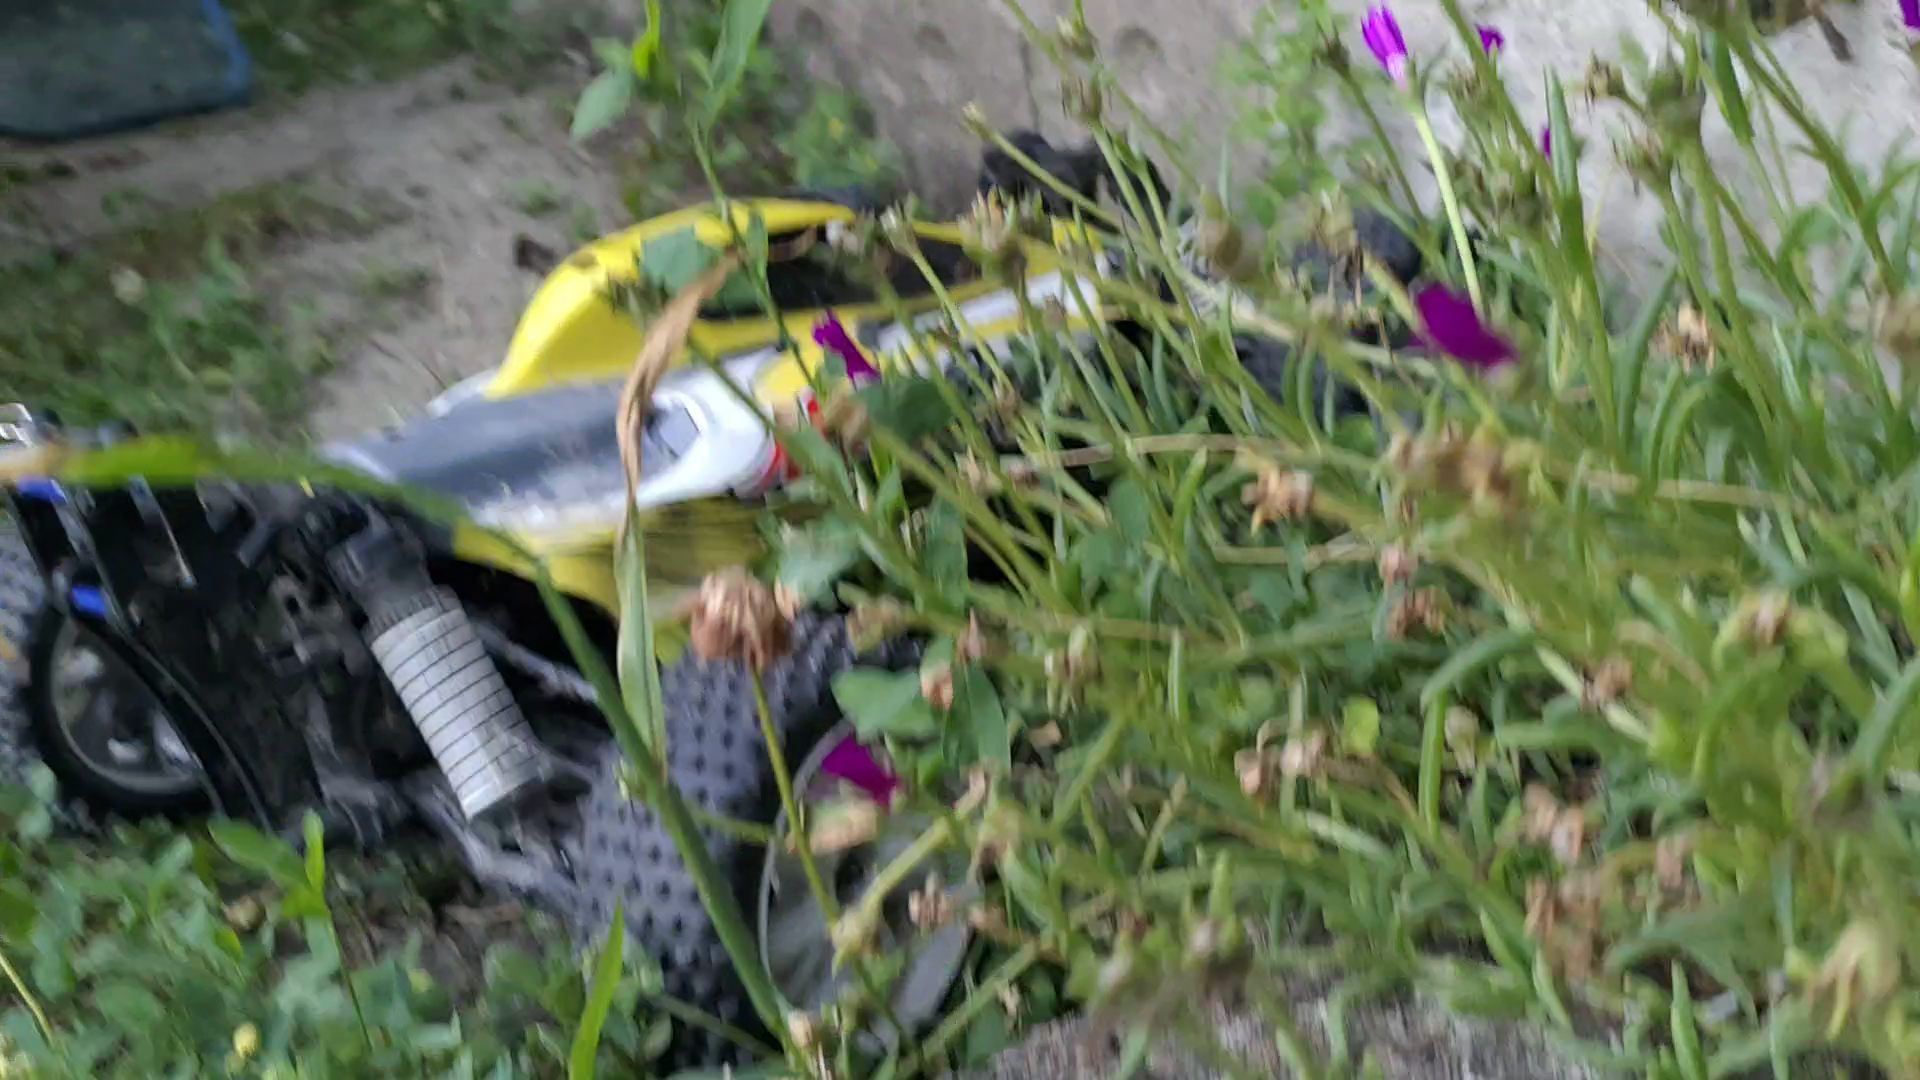buggy: (11, 131, 1505, 1080)
